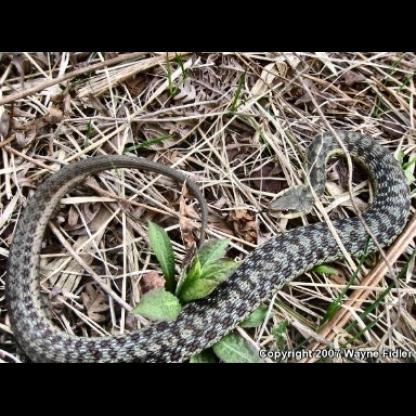Snake: (6, 130, 408, 350)
